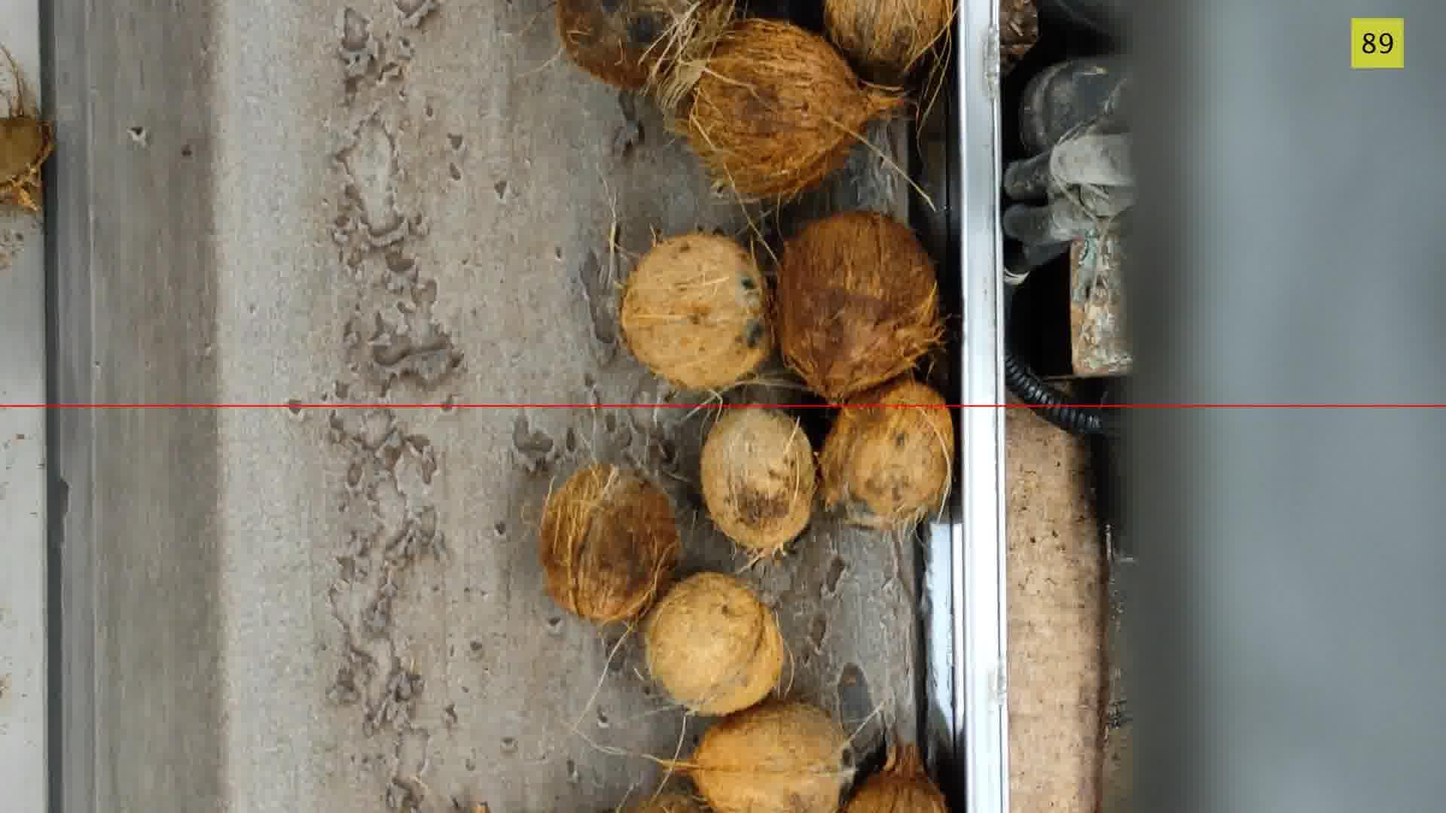Coconut: (657, 18, 905, 200), (773, 212, 942, 403), (619, 232, 772, 391), (539, 464, 679, 623), (819, 377, 954, 528), (643, 572, 785, 715), (677, 701, 853, 812), (701, 407, 816, 558), (555, 0, 732, 90), (823, 0, 954, 84), (0, 47, 54, 212), (843, 744, 947, 812), (621, 792, 705, 812)
